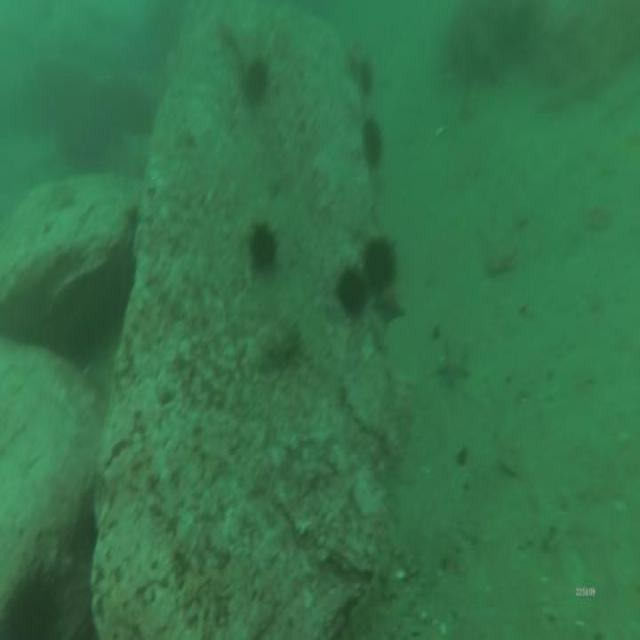echinus: (0, 567, 63, 640), (333, 256, 371, 326), (361, 232, 400, 296), (243, 215, 281, 278), (238, 52, 272, 108), (363, 107, 385, 177), (354, 55, 375, 103)
starfish: (434, 333, 473, 395), (372, 288, 407, 330)
